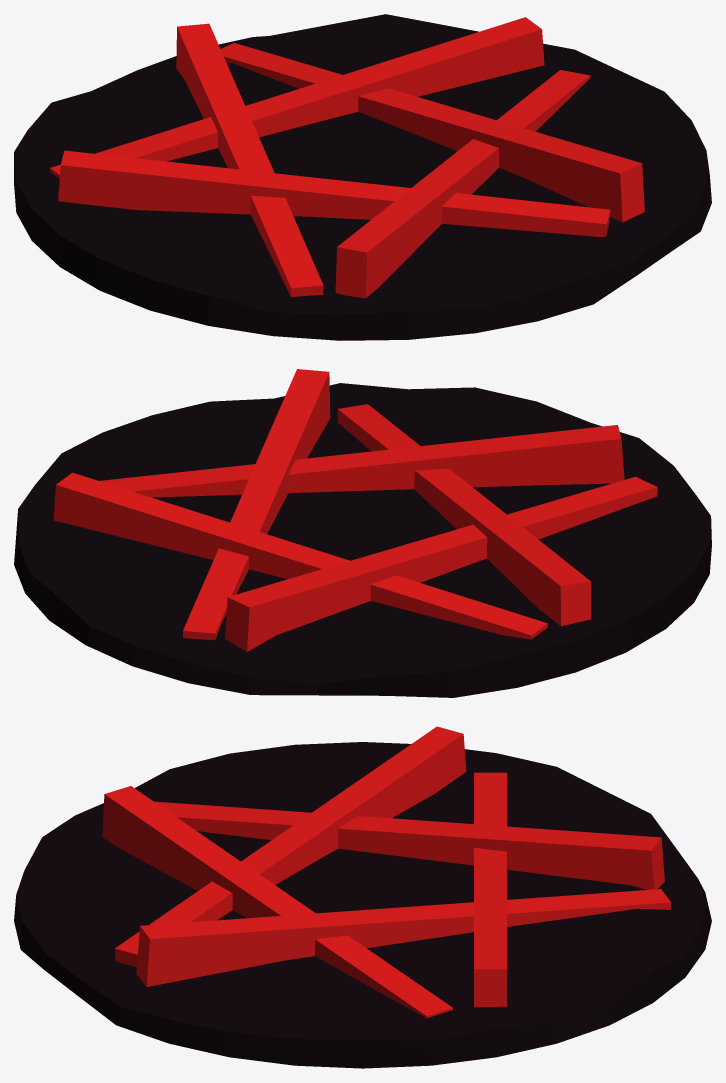
Rendered from waypoint.glb.
3 views of the same model, one above another, from view 1: azimuth 30°, elevation 25°; view 2: azimuth 150°, elevation 25°; view 3: azimuth 270°, elevation 25° (orthographic).
Parts seen in each view (by area): view 1: Cylinder, Cube.002, Cube.003, Cube, Cube.004, Cube.001; view 2: Cylinder, Cube.004, Cube, Cube.001, Cube.002, Cube.003; view 3: Cylinder, Cube.003, Cube.001, Cube.004, Cube.002, Cube.
Part boxes in pixels (left/top/right/bottom): Cylinder: left=14, top=14, right=711, bottom=340; Cube.002: left=58, top=150, right=610, bottom=236; Cube.003: left=220, top=43, right=644, bottom=222; Cube: left=50, top=17, right=544, bottom=178; Cube.004: left=335, top=70, right=590, bottom=298; Cube.001: left=176, top=23, right=323, bottom=297; Cylinder: left=14, top=383, right=711, bottom=697; Cube.004: left=99, top=425, right=624, bottom=497; Cube: left=53, top=472, right=547, bottom=639; Cube.001: left=225, top=476, right=657, bottom=651; Cube.002: left=337, top=404, right=591, bottom=626; Cube.003: left=183, top=369, right=330, bottom=640; Cylinder: left=14, top=742, right=711, bottom=1068; Cube.003: left=136, top=889, right=671, bottom=986; Cube.001: left=154, top=801, right=664, bottom=889; Cube.004: left=102, top=786, right=452, bottom=1018; Cube.002: left=114, top=726, right=466, bottom=966; Cube: left=474, top=772, right=506, bottom=1007.
Bounding box in the file's own units: 4 × 0.5388 × 4.
